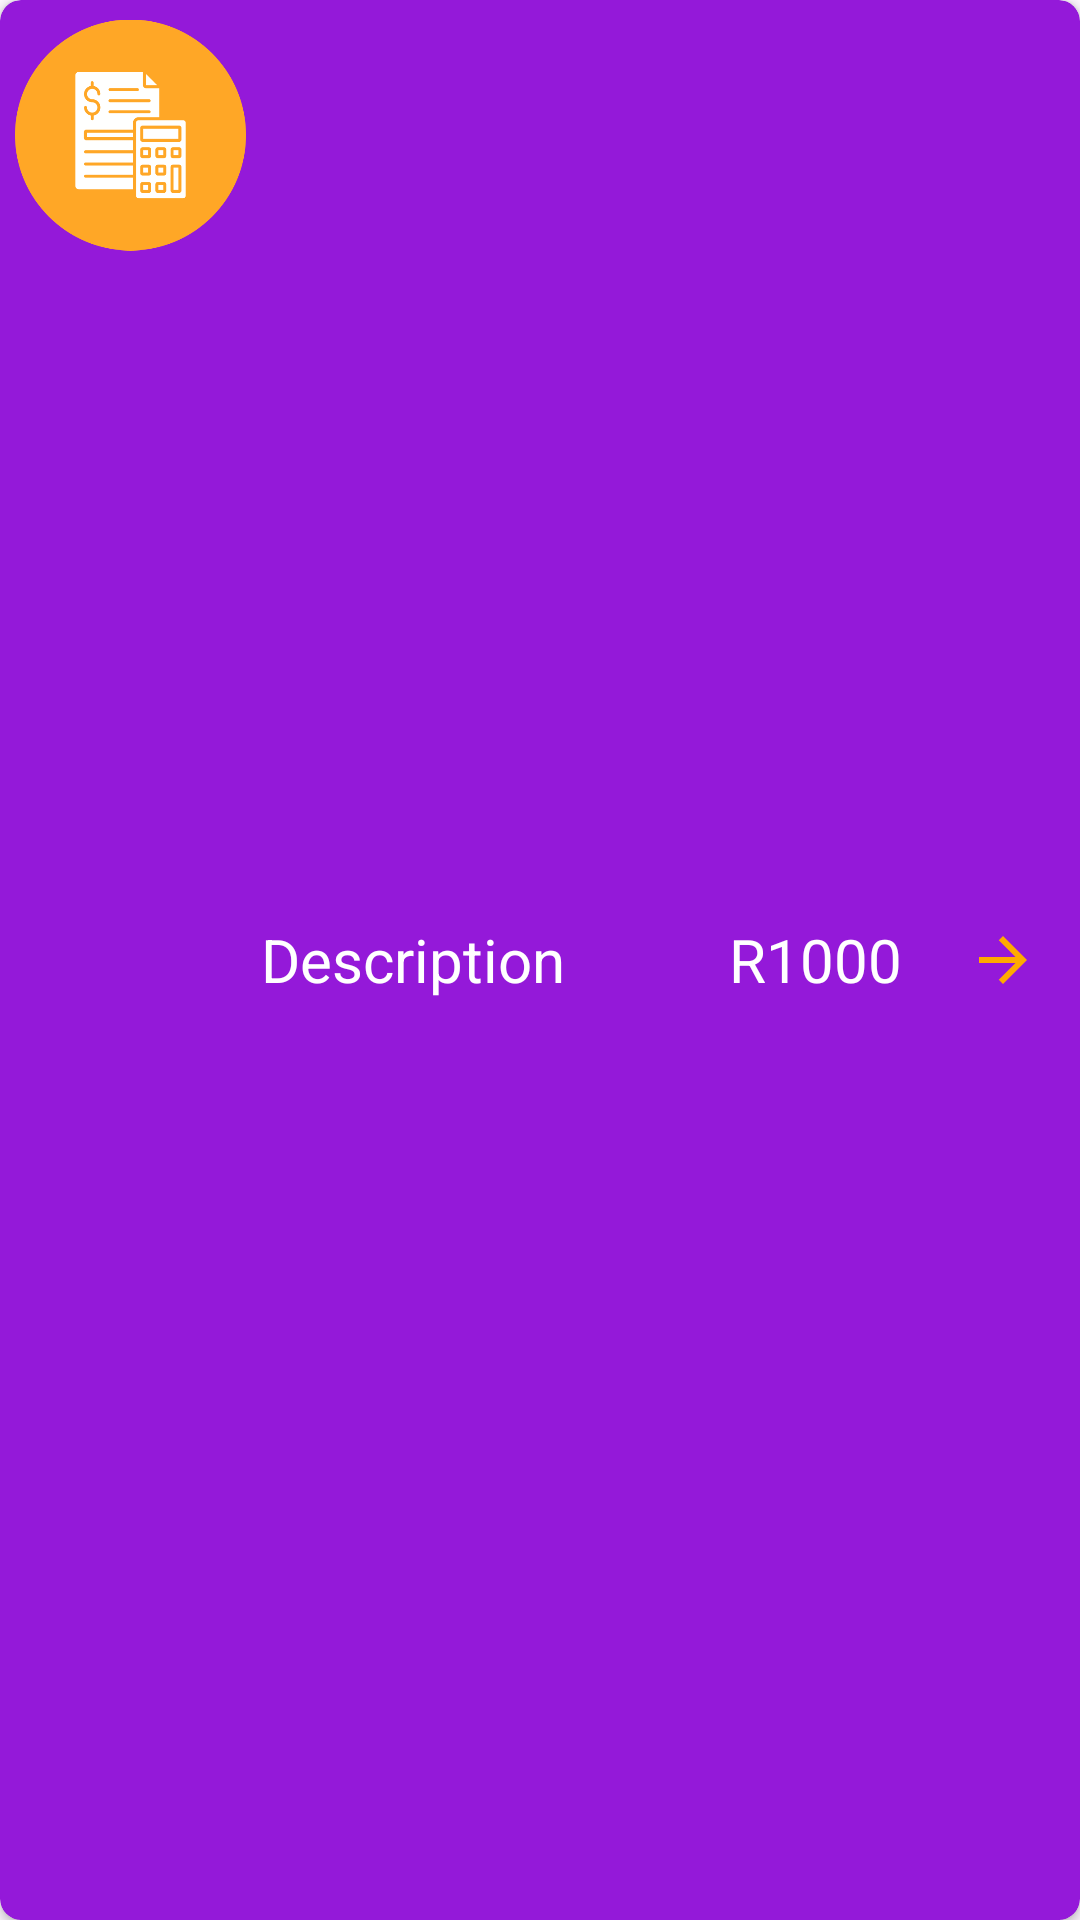

Icon click points for this 1080px x 1920px phone screenshot, format [x,y]:
arrow forward: [1003,960]
budget: [123,125]
